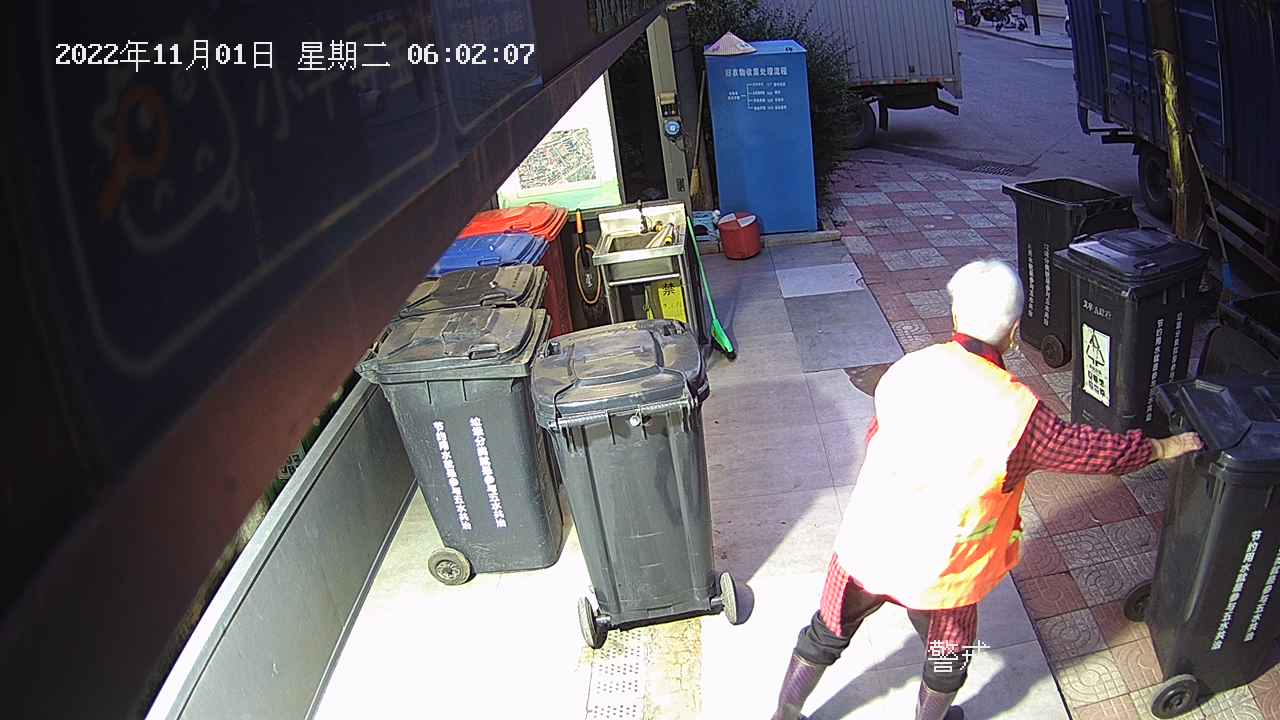worker: (768, 255, 1203, 720)
